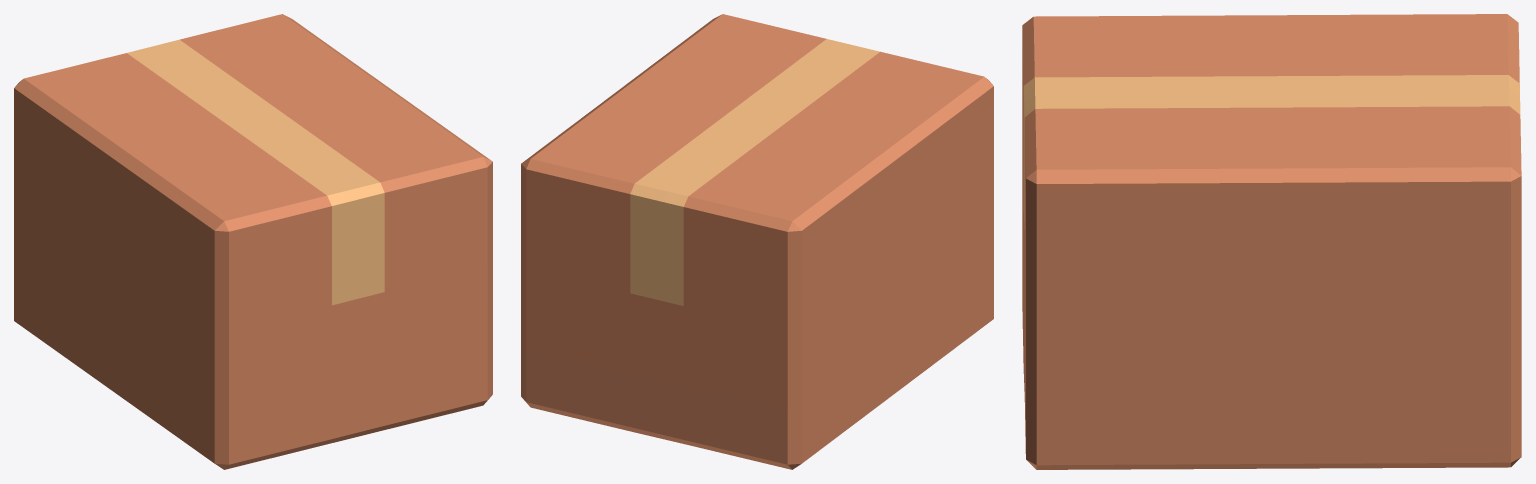
The model's file is cardboard_box3.fbx.
3 views of the same model, side by side, from view 1: azimuth 30°, elevation 25°; view 2: azimuth 150°, elevation 25°; view 3: azimuth 270°, elevation 25° (orthographic). The views are drawn at different scales.
Visible parts, largest first — view 1: cardboard_box3; view 2: cardboard_box3; view 3: cardboard_box3.
Part boxes in pixels (x1,y1,x2,y2): cardboard_box3: (14,14,492,469); cardboard_box3: (521,14,993,469); cardboard_box3: (1022,14,1521,469).
Bounding box in the file's own units: 13.66 × 11.44 × 17.24.
